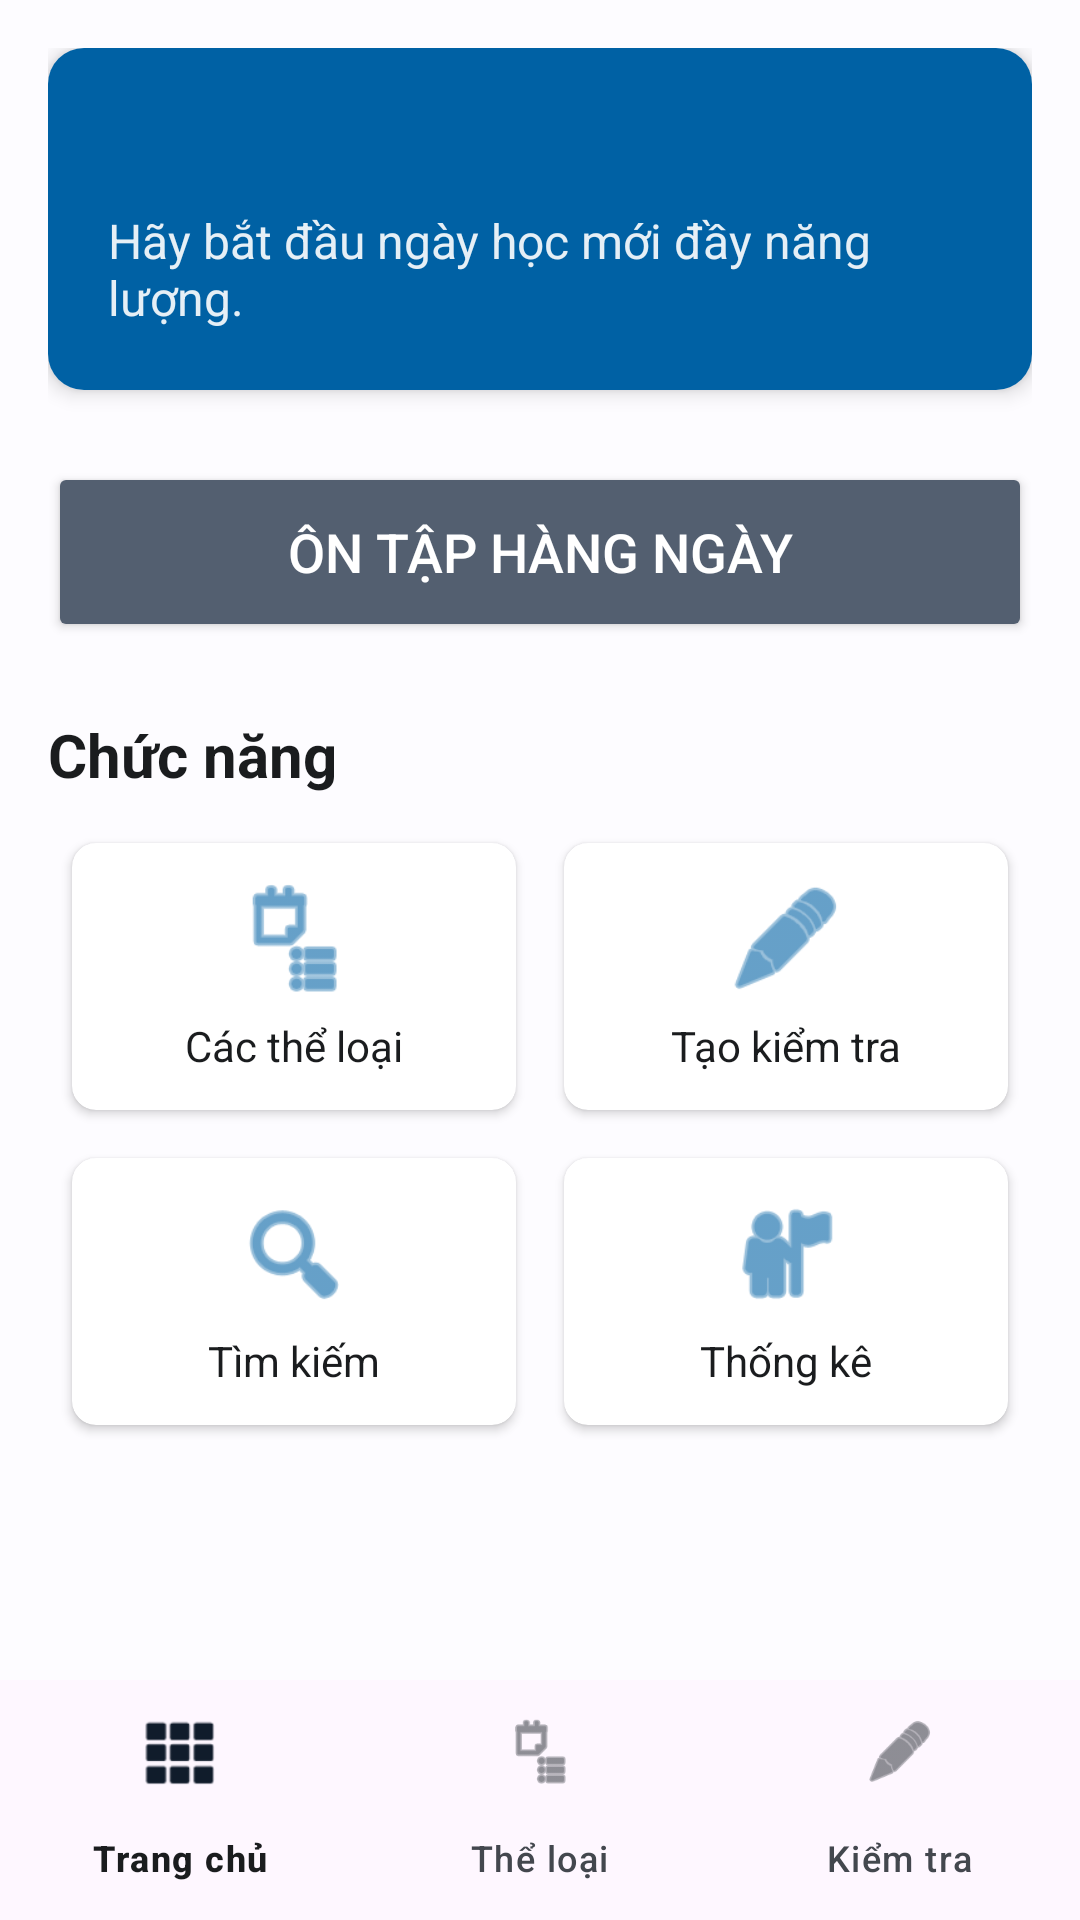

Icon bounding boxes for this 1080x1920 phone screenshot, format (x1, y1, x2, y2):
agenda: (252, 885, 337, 992)
edit: (735, 887, 836, 989)
myplaces: (742, 1209, 832, 1299)
search: (249, 1210, 338, 1299)
